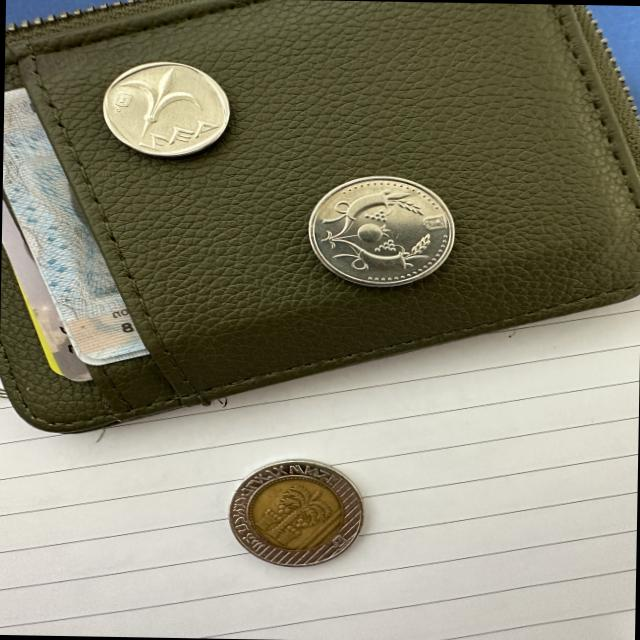1-shekel: (96, 58, 228, 160)
10-shekel: (222, 455, 366, 572)
2-shekel: (301, 172, 459, 287)
